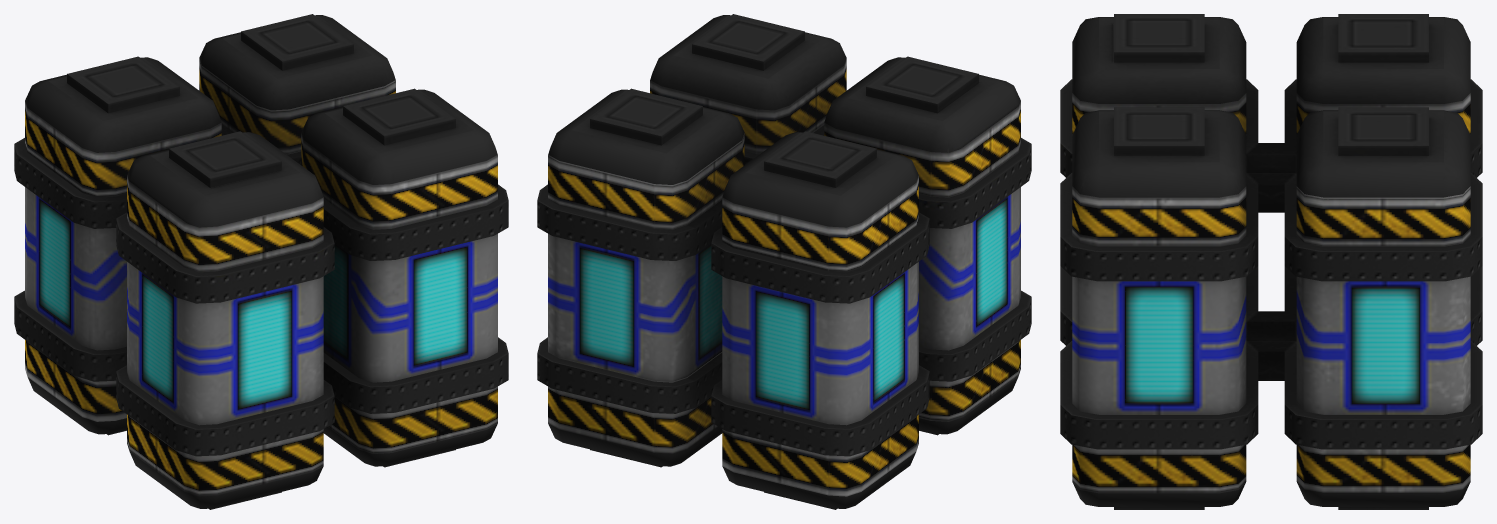
Rendered from battery_pickup3.dae.
The picture shows the model from 3 angles, left to right: view 1: azimuth 30°, elevation 25°; view 2: azimuth 150°, elevation 25°; view 3: azimuth 270°, elevation 25°; orthographic projection. The views are drawn at different scales.
Visible parts, largest first — view 1: battery3; view 2: battery3; view 3: battery3.
Part boxes in pixels (x1=…): battery3: x1=14, y1=14, x2=508, y2=509; battery3: x1=537, y1=14, x2=1031, y2=509; battery3: x1=1060, y1=14, x2=1482, y2=509.
Bounding box in the file's own units: 0.8446 × 0.8511 × 0.8094.
1 material, 1 textured.
